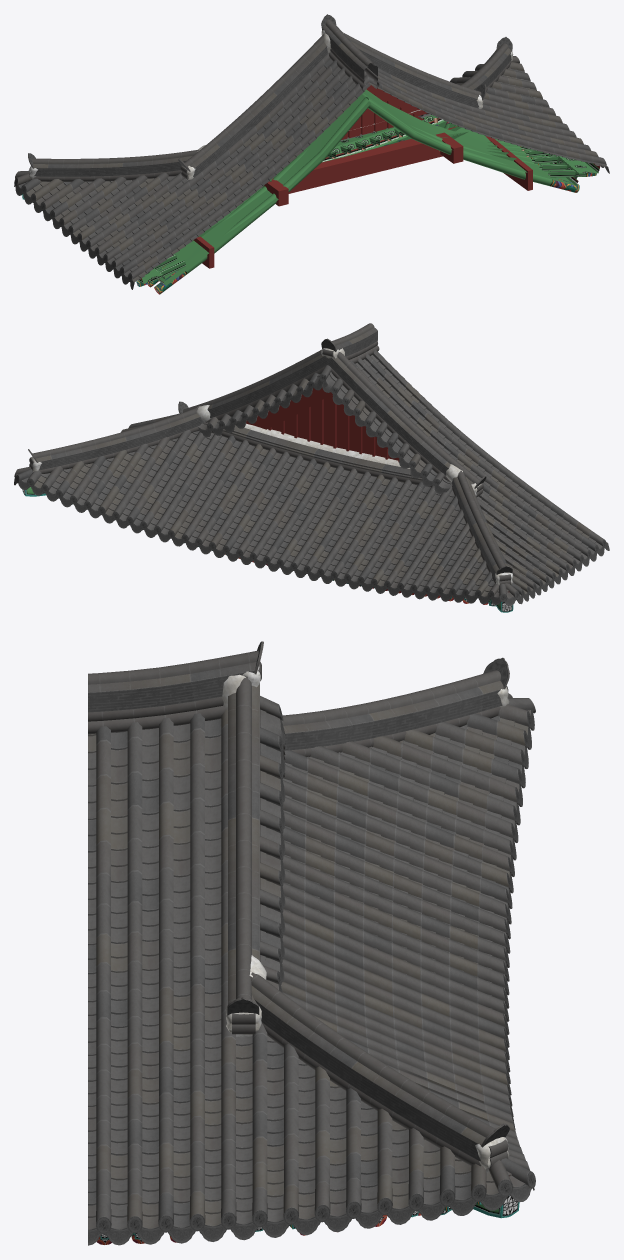
The model's file is SM_Castle_Roof05b.fbx.
3 renders of one model, top to bottom at view 1: azimuth 30°, elevation 25°; view 2: azimuth 150°, elevation 25°; view 3: azimuth 270°, elevation 25°, orthographic. The views are drawn at different scales.
Visible parts, largest first — view 1: SM_Castle_Roof05b; view 2: SM_Castle_Roof05b; view 3: SM_Castle_Roof05b.
Boxes of the visible parts, x1=… form: SM_Castle_Roof05b: x1=14, y1=14, x2=609, y2=294; SM_Castle_Roof05b: x1=14, y1=323, x2=609, y2=612; SM_Castle_Roof05b: x1=88, y1=641, x2=535, y2=1245.
Bounding box in the file's own units: 1117 × 430 × 424.
Materials: 2 (2 with a texture image).
